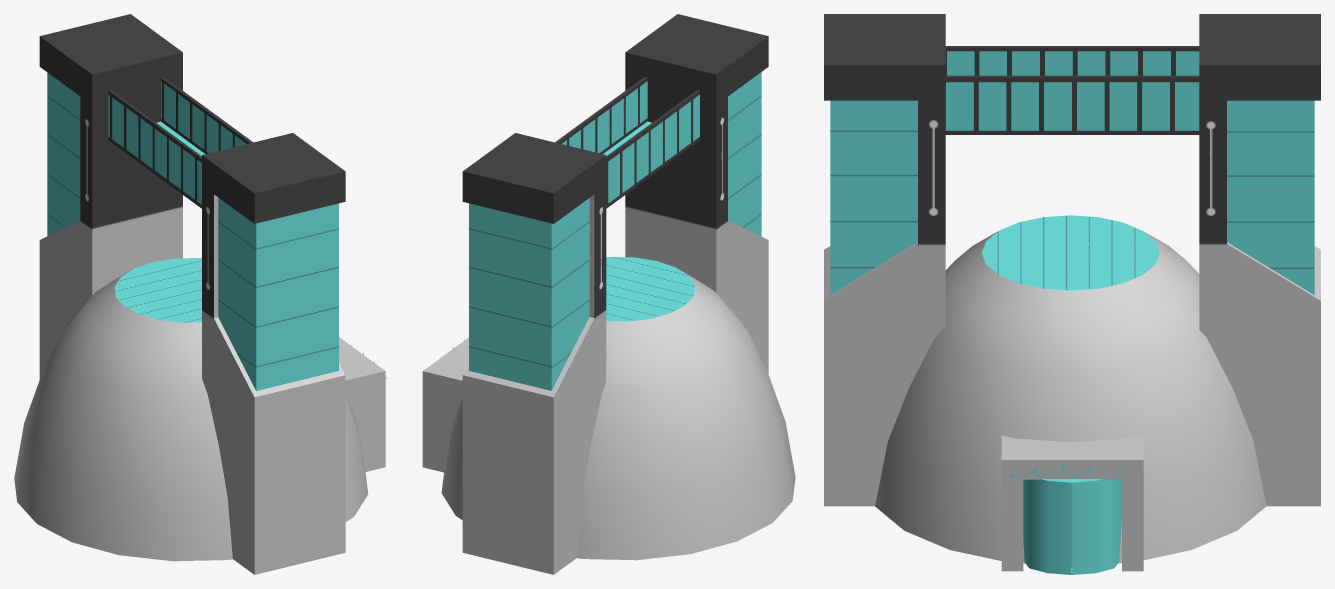
File: model_building02.fbx
The picture shows the model from 3 angles, left to right: view 1: azimuth 30°, elevation 25°; view 2: azimuth 150°, elevation 25°; view 3: azimuth 270°, elevation 25°; orthographic projection. The views are drawn at different scales.
Parts seen in each view (by area): view 1: polySurface3; view 2: polySurface3; view 3: polySurface3.
Part boxes in pixels (<box>): polySurface3: <box>14,14,387,574</box>; polySurface3: <box>422,14,795,574</box>; polySurface3: <box>824,14,1320,574</box>.
Bounding box in the file's own units: 17.37 × 19.49 × 19.89.
